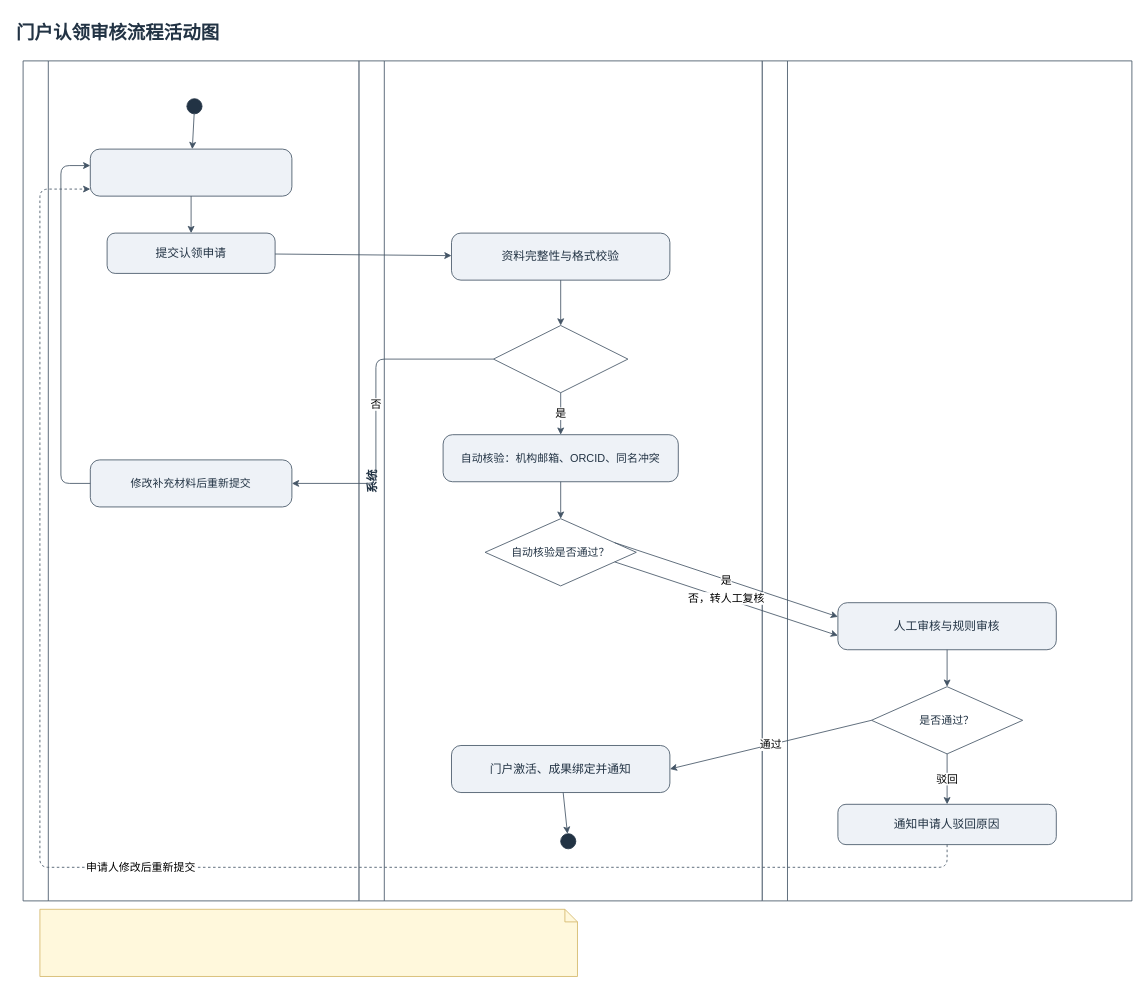
Image size: 1147x991. Some labels were removed from this diagram. Each missing label, with the box of its shape:
填写认领信息、上传证明材料: (89, 148, 292, 196)
申请人: (22, 60, 359, 901)
管理员: (761, 60, 1132, 901)
认证防冒领组合：机构邮箱验证、ORCID 机构可信推送与人工复核三道闸门串联执行。 申请人可在提交后主动撤回申请，驳回后可修改材料再次提交。: (39, 908, 578, 976)
资料是否完整？: (493, 325, 628, 393)
